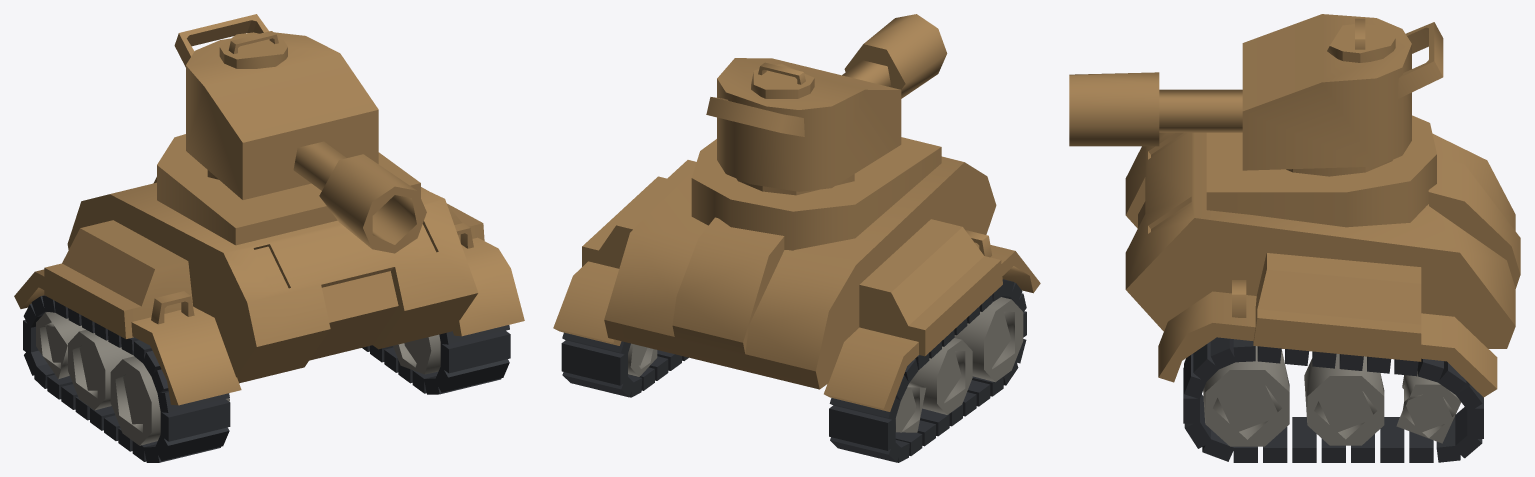
File: cc0-tank-lod1.glb
3 renders of one model, left to right at view 1: azimuth 30°, elevation 25°; view 2: azimuth 150°, elevation 25°; view 3: azimuth 270°, elevation 25°, orthographic. The views are drawn at different scales.
Visible parts, largest first — view 1: part_0; view 2: part_0; view 3: part_0.
Part boxes in pixels (left/top/right/bottom): part_0: left=14, top=14, right=524, bottom=462; part_0: left=553, top=14, right=1040, bottom=462; part_0: left=1069, top=14, right=1520, bottom=462.
Bounding box in the file's own units: 2.37 × 2.13 × 2.5.
